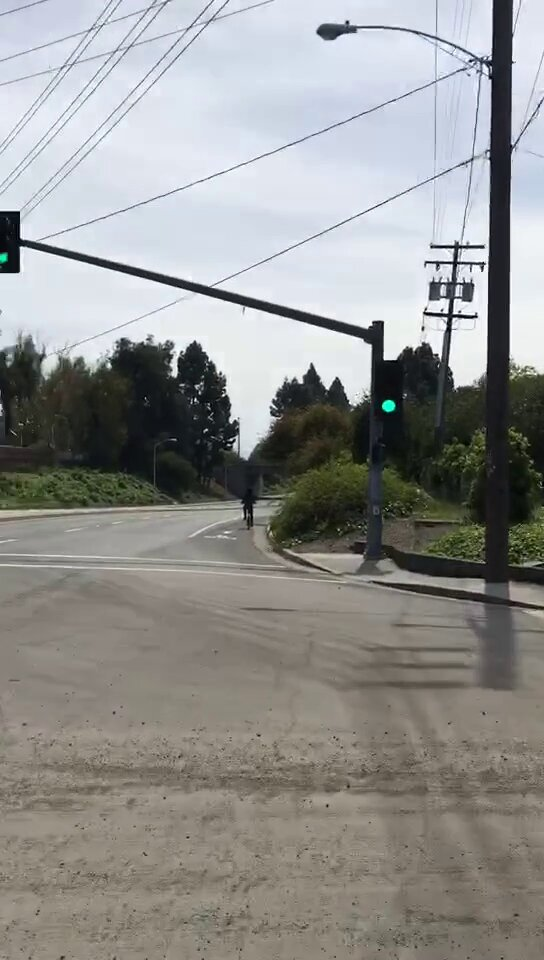green_light: (376, 365, 403, 418)
